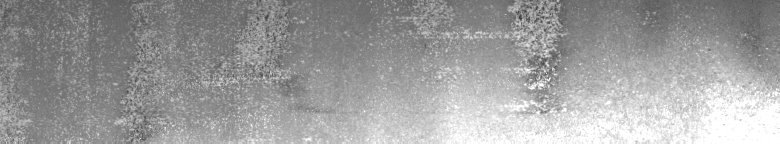hc: (474, 4, 560, 113)
